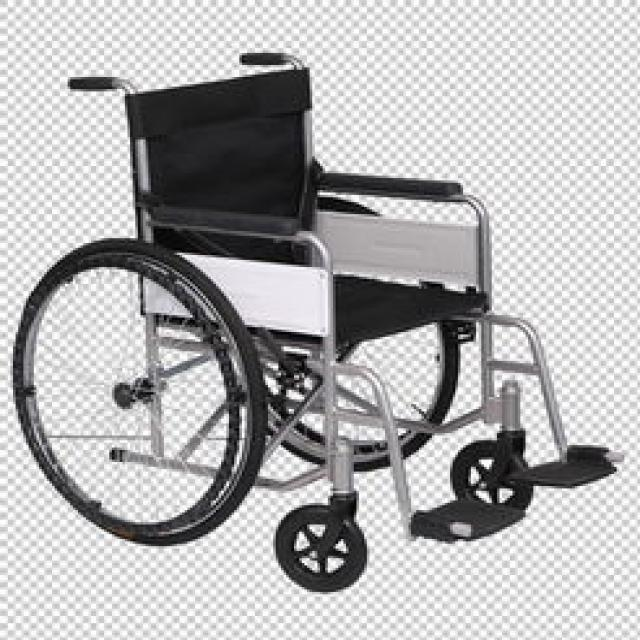wheelchair: (8, 43, 635, 604)
